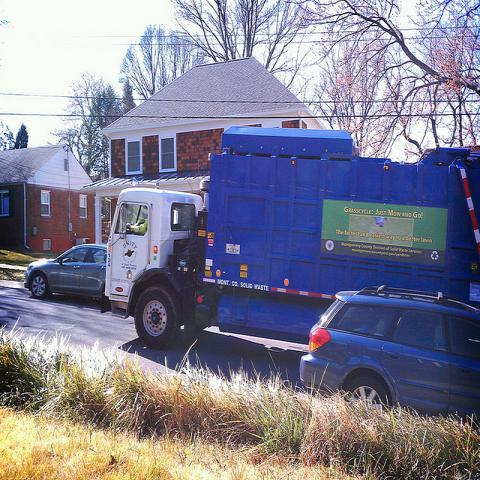car: (297, 283, 479, 422), (23, 245, 107, 302)
truck: (104, 125, 480, 354)
